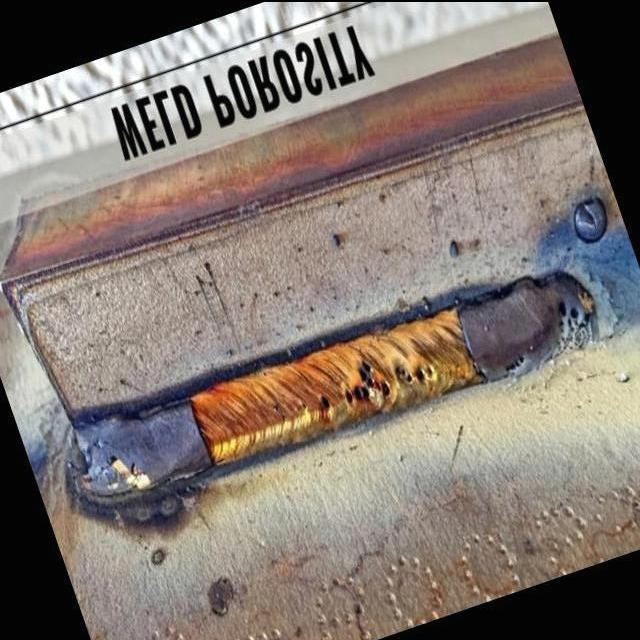defect: (341, 351, 395, 407), (549, 297, 591, 361), (396, 362, 436, 384), (504, 352, 527, 373), (272, 402, 289, 423), (318, 389, 331, 412), (300, 400, 311, 413)
